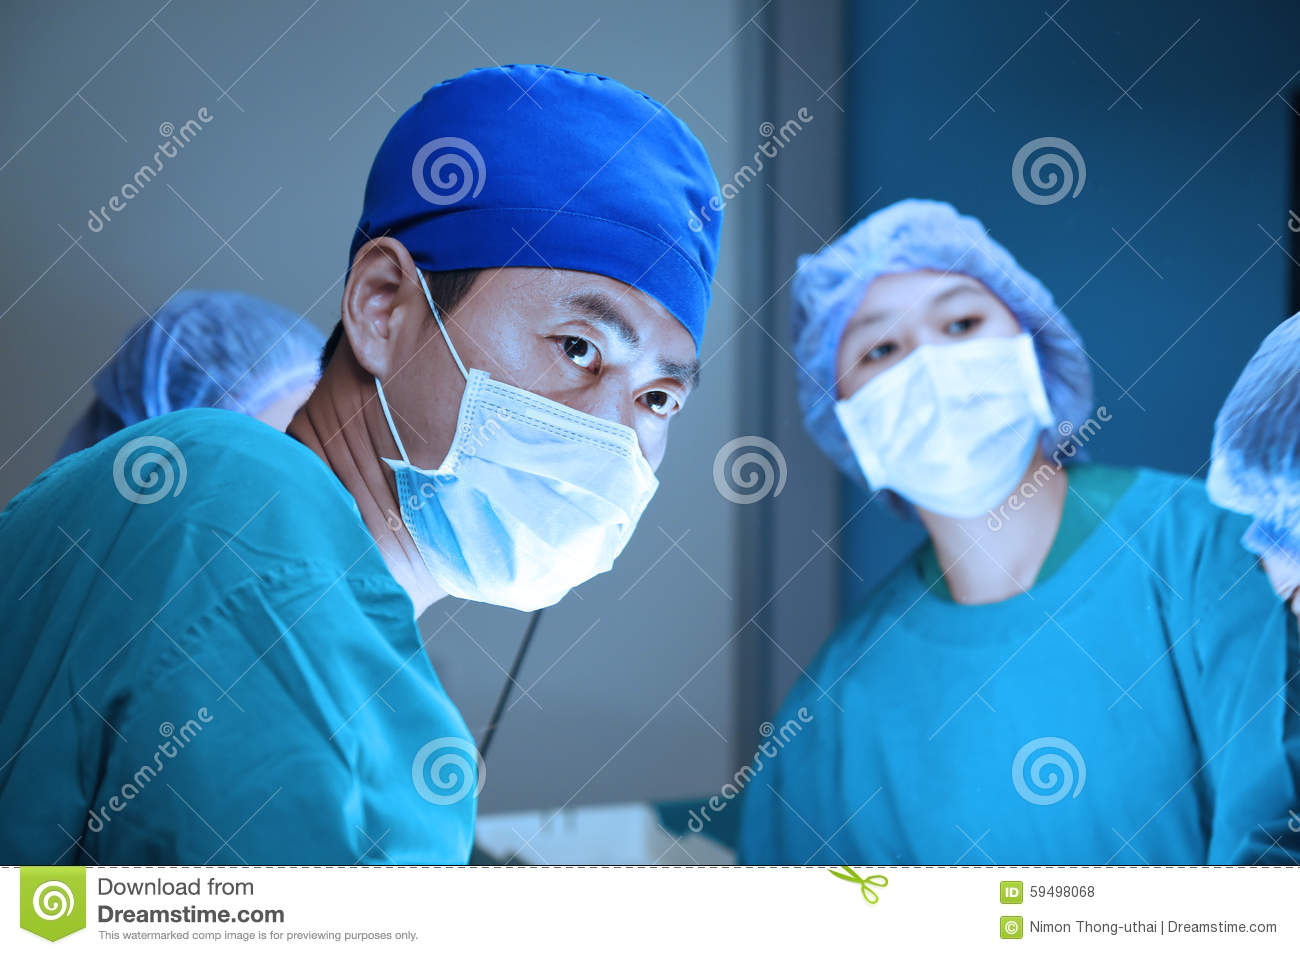mask: (419, 370, 663, 666), (839, 357, 1067, 523)
